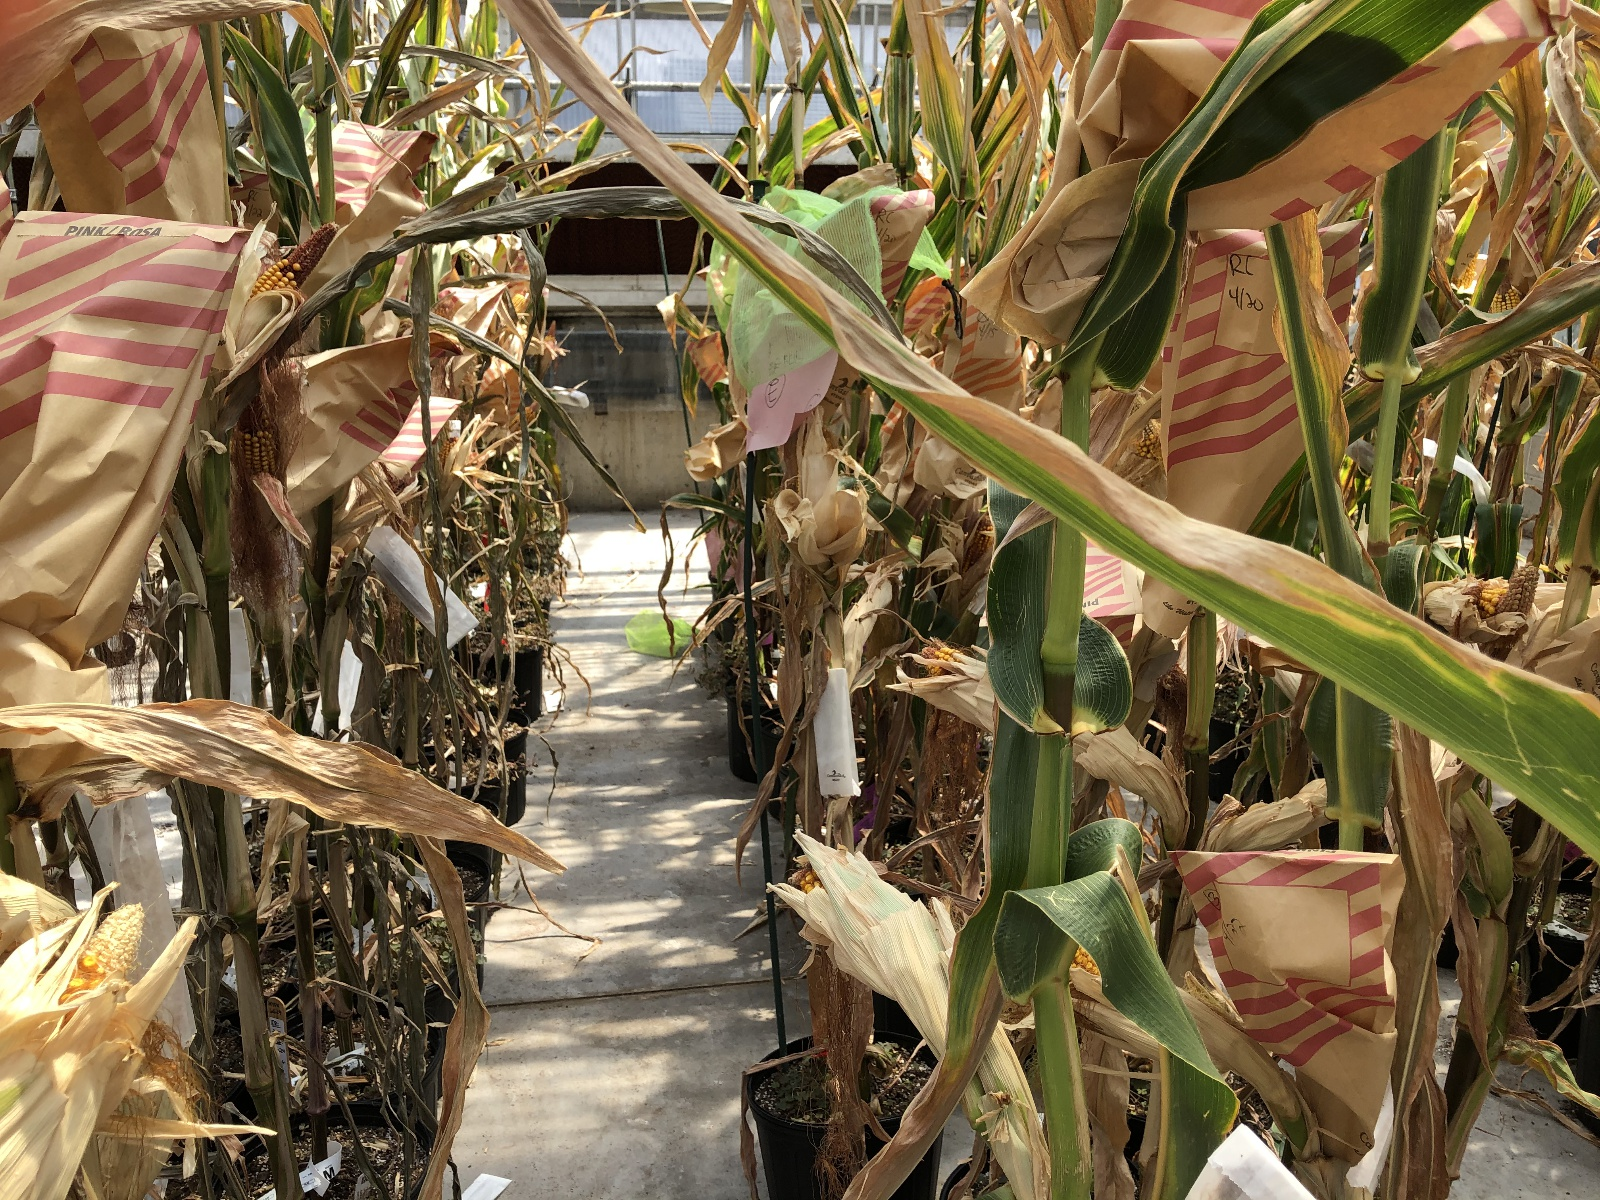ear: (1, 897, 150, 1187), (787, 852, 947, 1015), (917, 638, 1104, 749), (219, 214, 345, 362), (1066, 942, 1235, 1046), (1432, 555, 1552, 634), (227, 386, 285, 542), (1479, 261, 1519, 324), (963, 508, 991, 579), (1125, 418, 1164, 468)
